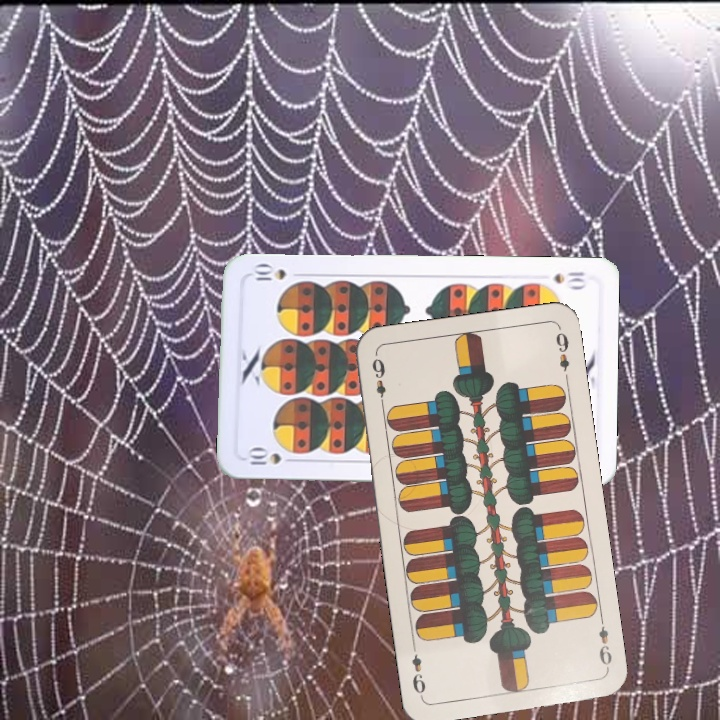E9: (368, 354, 389, 411), (595, 613, 615, 672)
S10: (243, 445, 300, 468), (549, 268, 589, 291)
